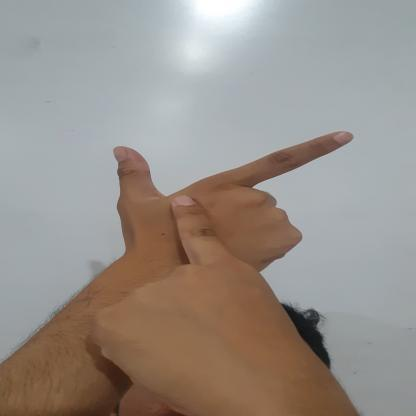Y: (107, 131, 360, 354)
